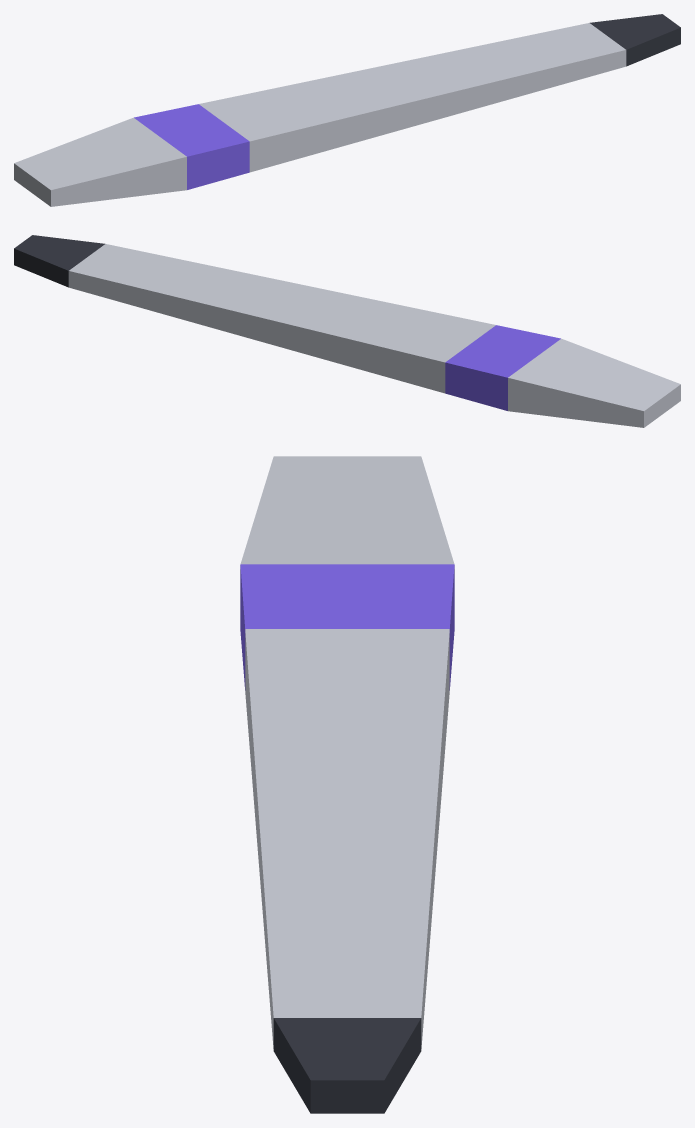
Rendered from Propeller.fbx.
The picture shows the model from 3 angles, top to bottom: view 1: azimuth 30°, elevation 25°; view 2: azimuth 150°, elevation 25°; view 3: azimuth 270°, elevation 25°; orthographic projection. The views are drawn at different scales.
Visible parts, largest first — view 1: propeller_large; view 2: propeller_large; view 3: propeller_large.
Boxes of the visible parts, left/top/right/bottom form: propeller_large: left=14, top=14, right=680, bottom=206; propeller_large: left=14, top=235, right=680, bottom=427; propeller_large: left=240, top=456, right=454, bottom=1113.
Size of the model in its own units: 20 by 1 by 2.9.
